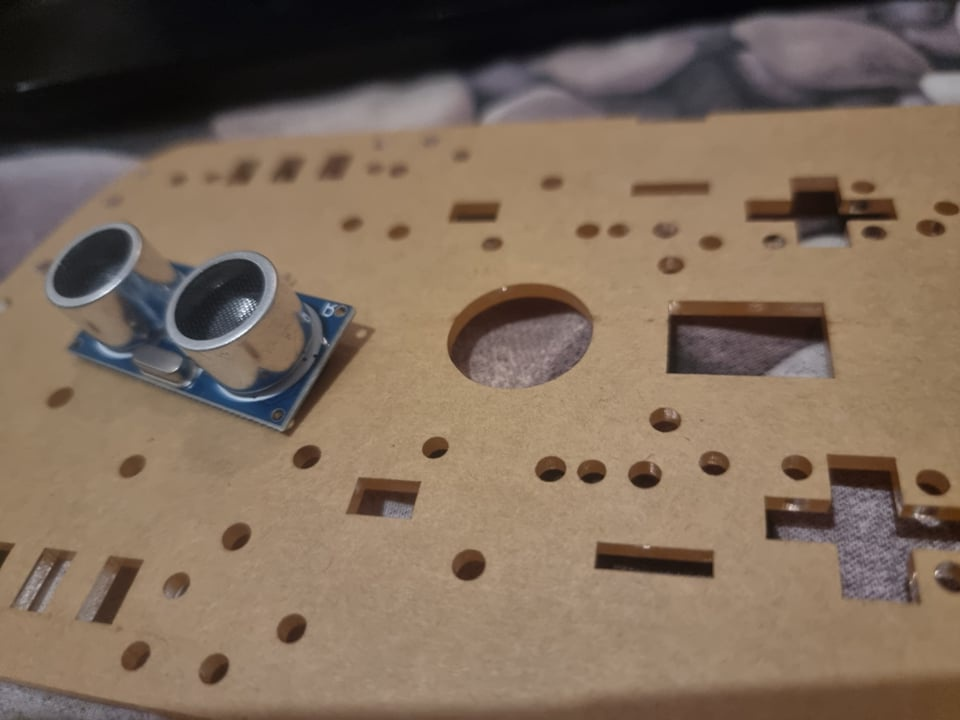SENSOR: (45, 222, 357, 425)
